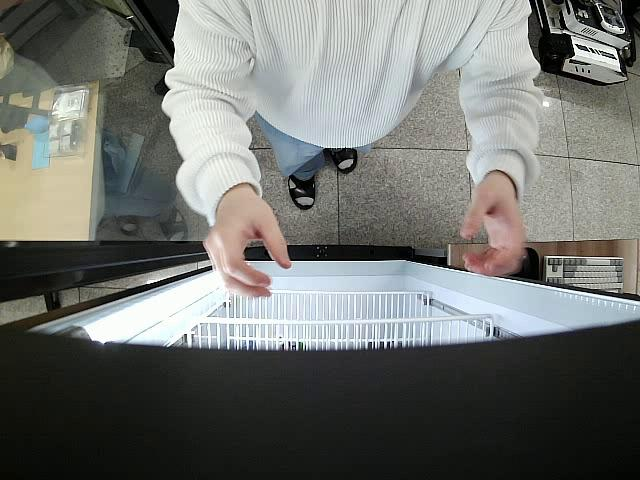00_hand: (202, 195, 291, 299), (459, 183, 526, 276)
